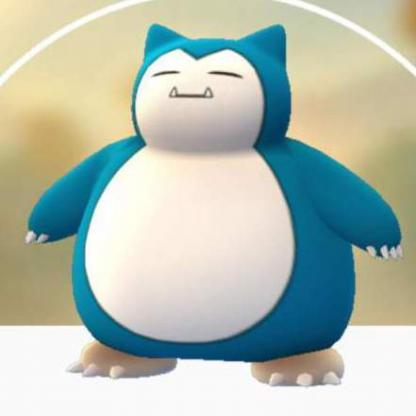Snorlax: (22, 26, 414, 388)
